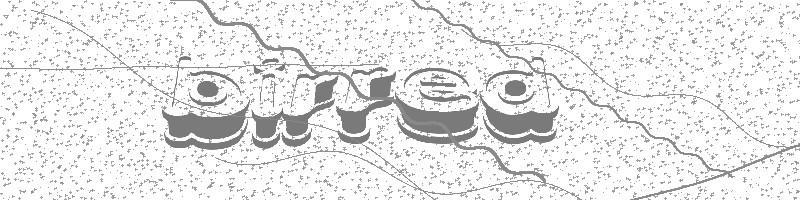b: (161, 54, 248, 150)
d: (481, 56, 560, 145)
e: (395, 67, 480, 145)
i: (252, 56, 282, 148)
r: (336, 66, 396, 146), (281, 71, 340, 149)
